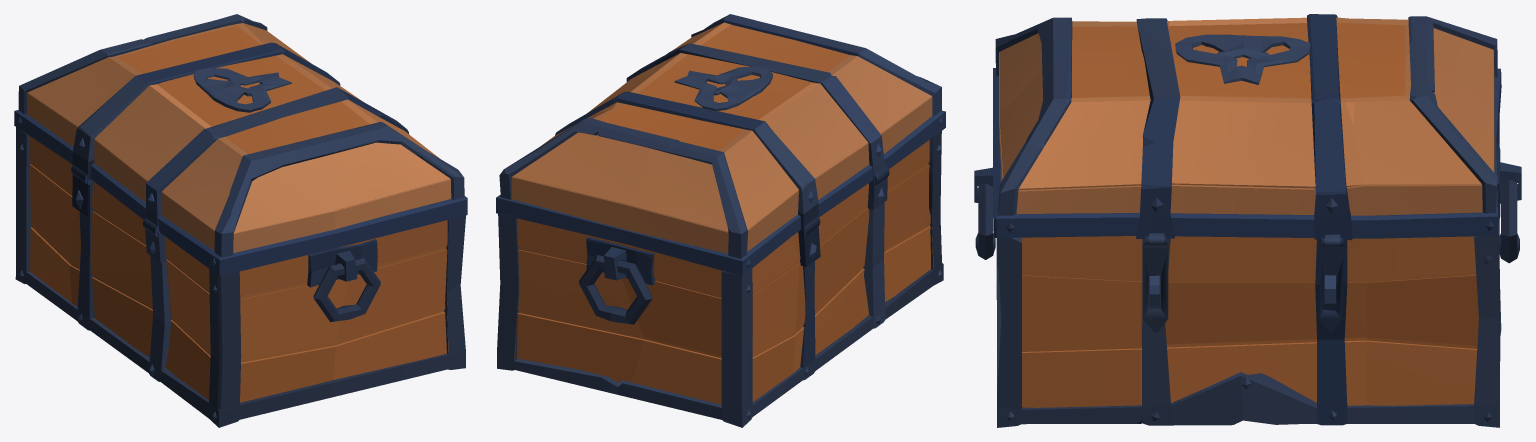
The model's file is Chest.fbx.
3 views of the same model, side by side, from view 1: azimuth 30°, elevation 25°; view 2: azimuth 150°, elevation 25°; view 3: azimuth 270°, elevation 25° (orthographic). The views are drawn at different scales.
Visible parts, largest first — view 1: Chest; view 2: Chest; view 3: Chest.
Boxes of the visible parts, <box> form: Chest: <box>14,14,467,427</box>; Chest: <box>496,14,945,427</box>; Chest: <box>974,14,1521,427</box>.
Bounding box in the file's own units: 203 × 176 × 291.
Materials: 1 (1 with a texture image).
